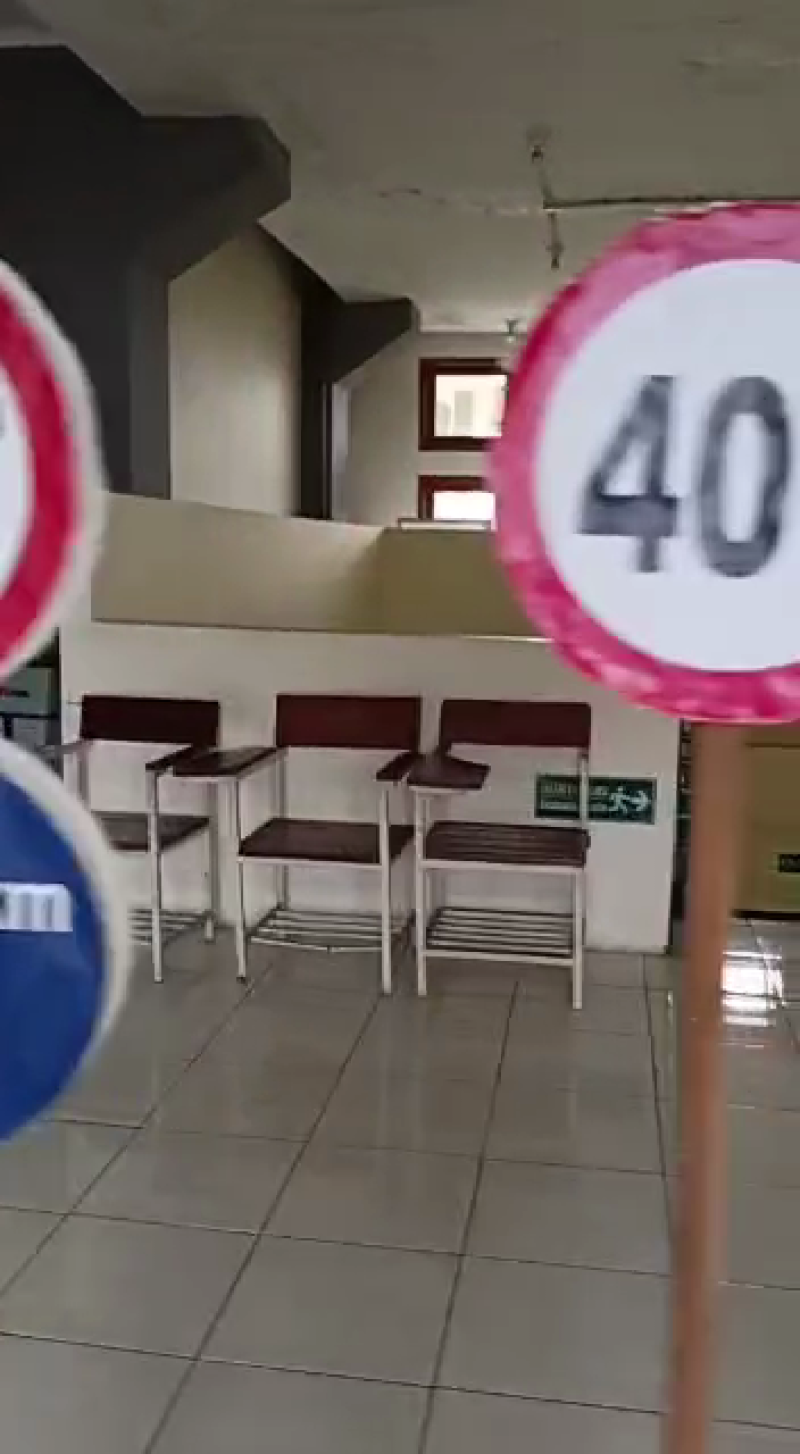batas maksimal 40kmperjam: (484, 164, 800, 740)
